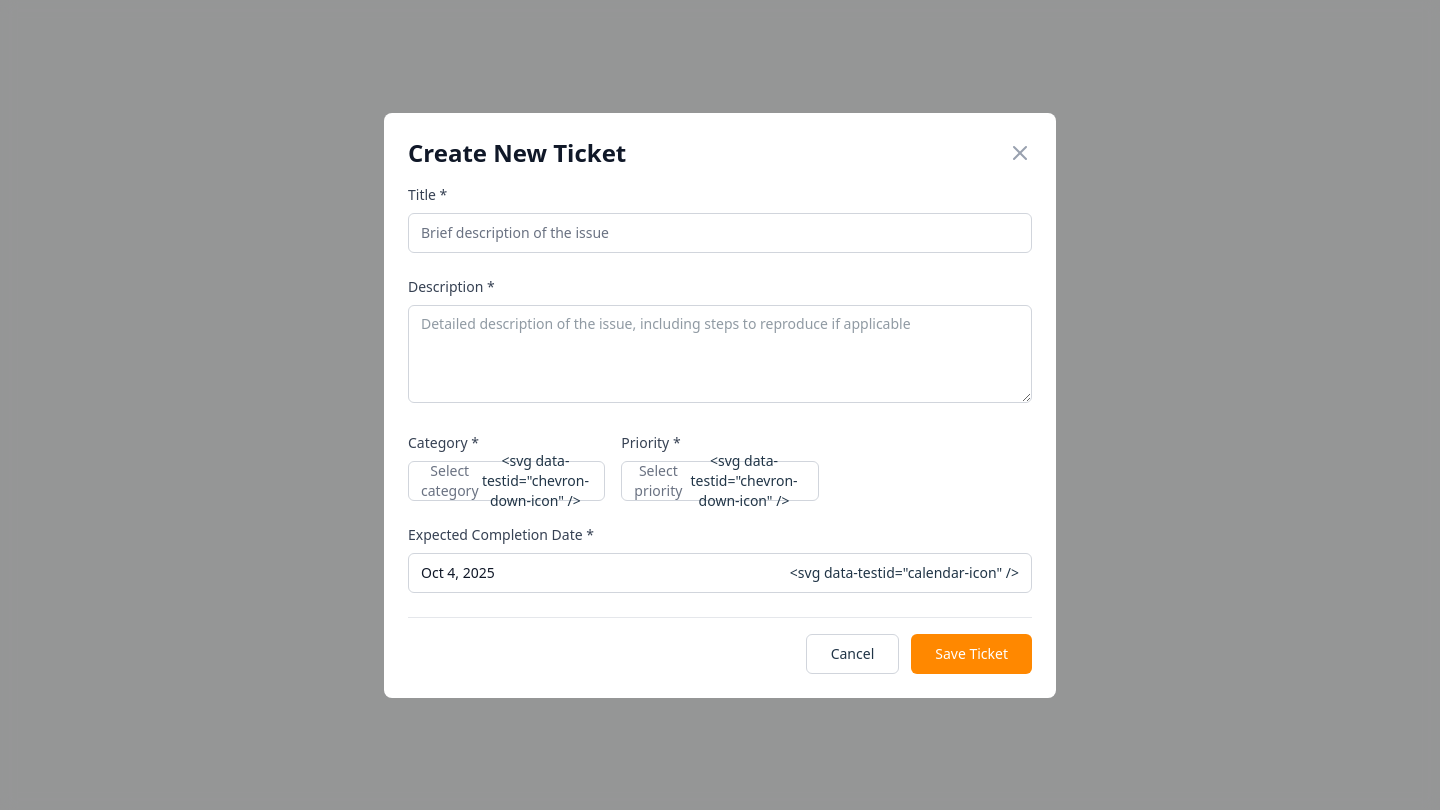
Test: CreateTicketDialog › validates required fields (title & description show errors)
Click the button "Save Ticket" at [972, 654], box x1=911 y1=634 x2=1032 y2=674
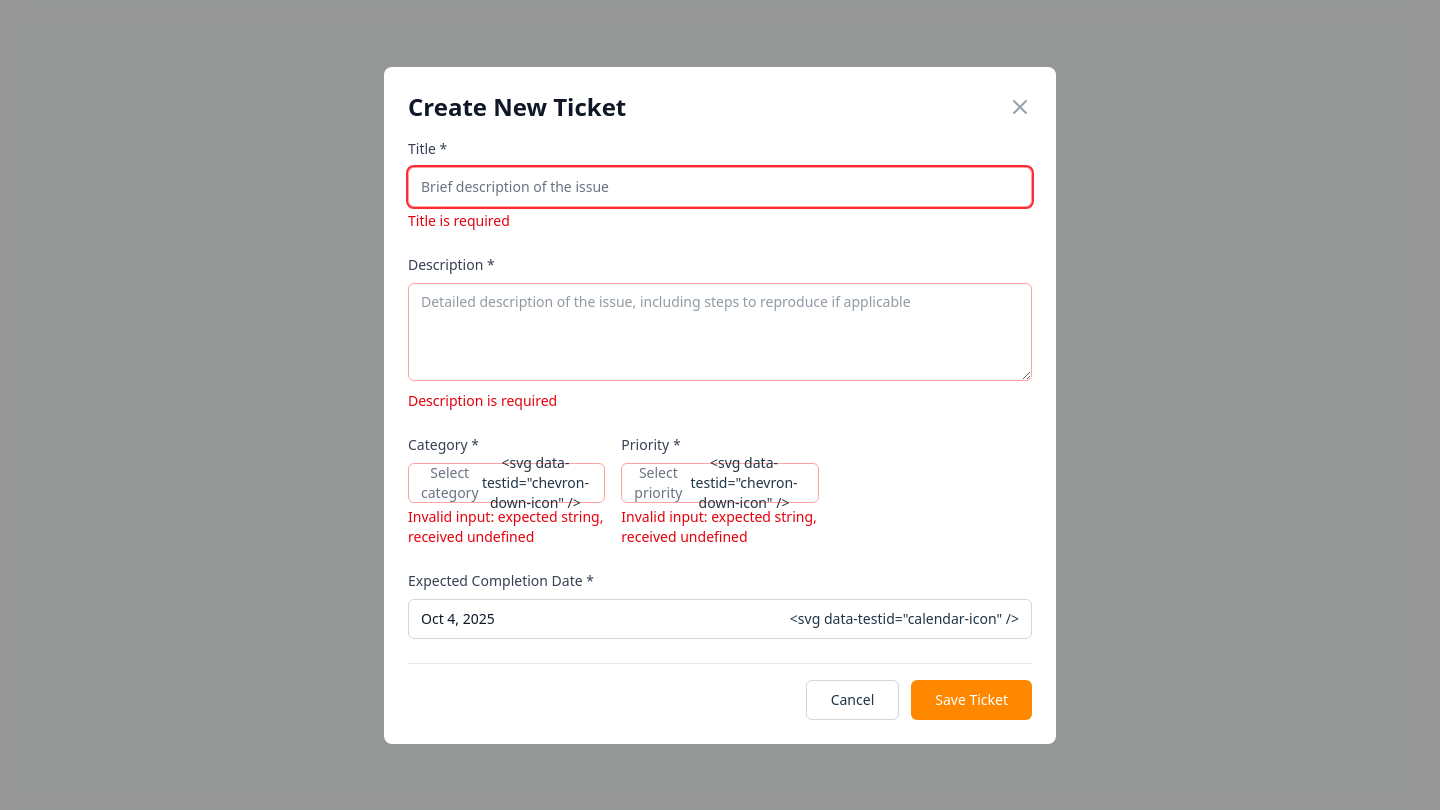
Check: the text "Title is required" is shown, box x1=408 y1=210 x2=510 y2=230
Check: the text "Description is required" is shown, box x1=408 y1=390 x2=557 y2=410
